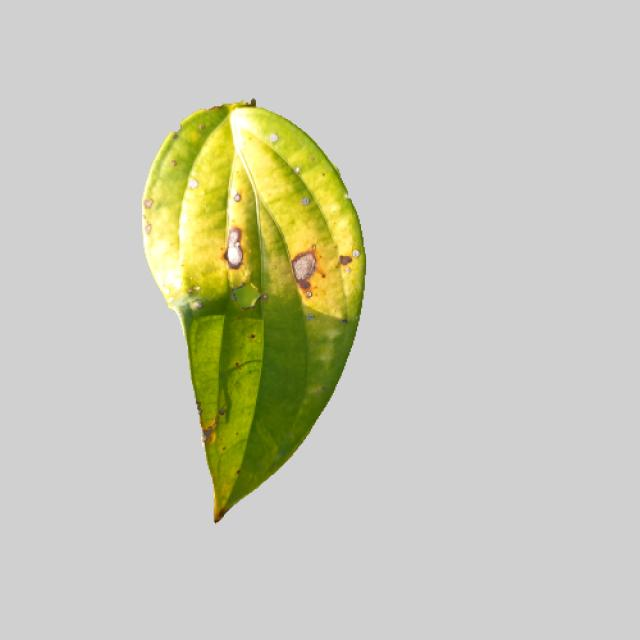leaf-blight: (128, 102, 370, 520)
